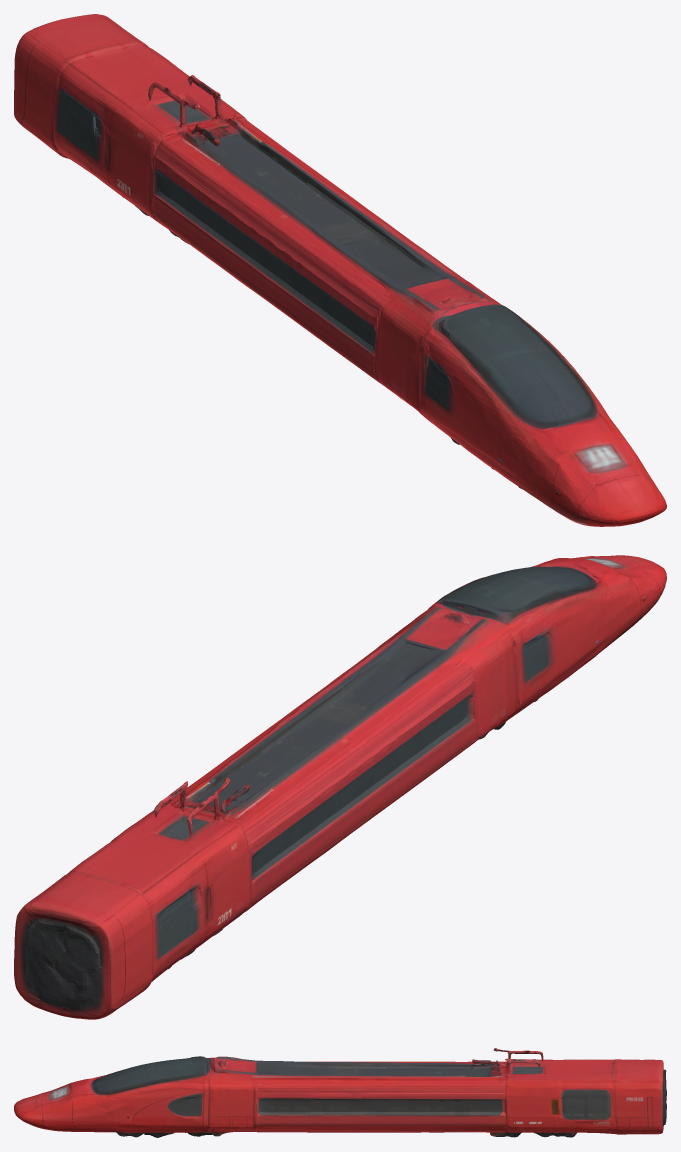
Rendered from red_High_speed_Train__0623115534_texture.fbx.
3 views of the same model, one above another, from view 1: azimuth 30°, elevation 25°; view 2: azimuth 150°, elevation 25°; view 3: azimuth 270°, elevation 25° (orthographic). The views are drawn at different scales.
Visible parts, largest first — view 1: temp; view 2: temp; view 3: temp.
Part boxes in pixels (x1,y1,x2,y2): temp: (14, 14, 666, 526); temp: (14, 555, 666, 1019); temp: (14, 1048, 666, 1137).
Bounding box in the file's own units: 20.23 × 26.95 × 199.
Materials: 1 (1 with a texture image).
